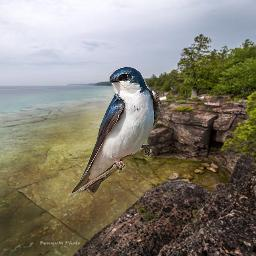Swallow: (71, 65, 162, 195)
